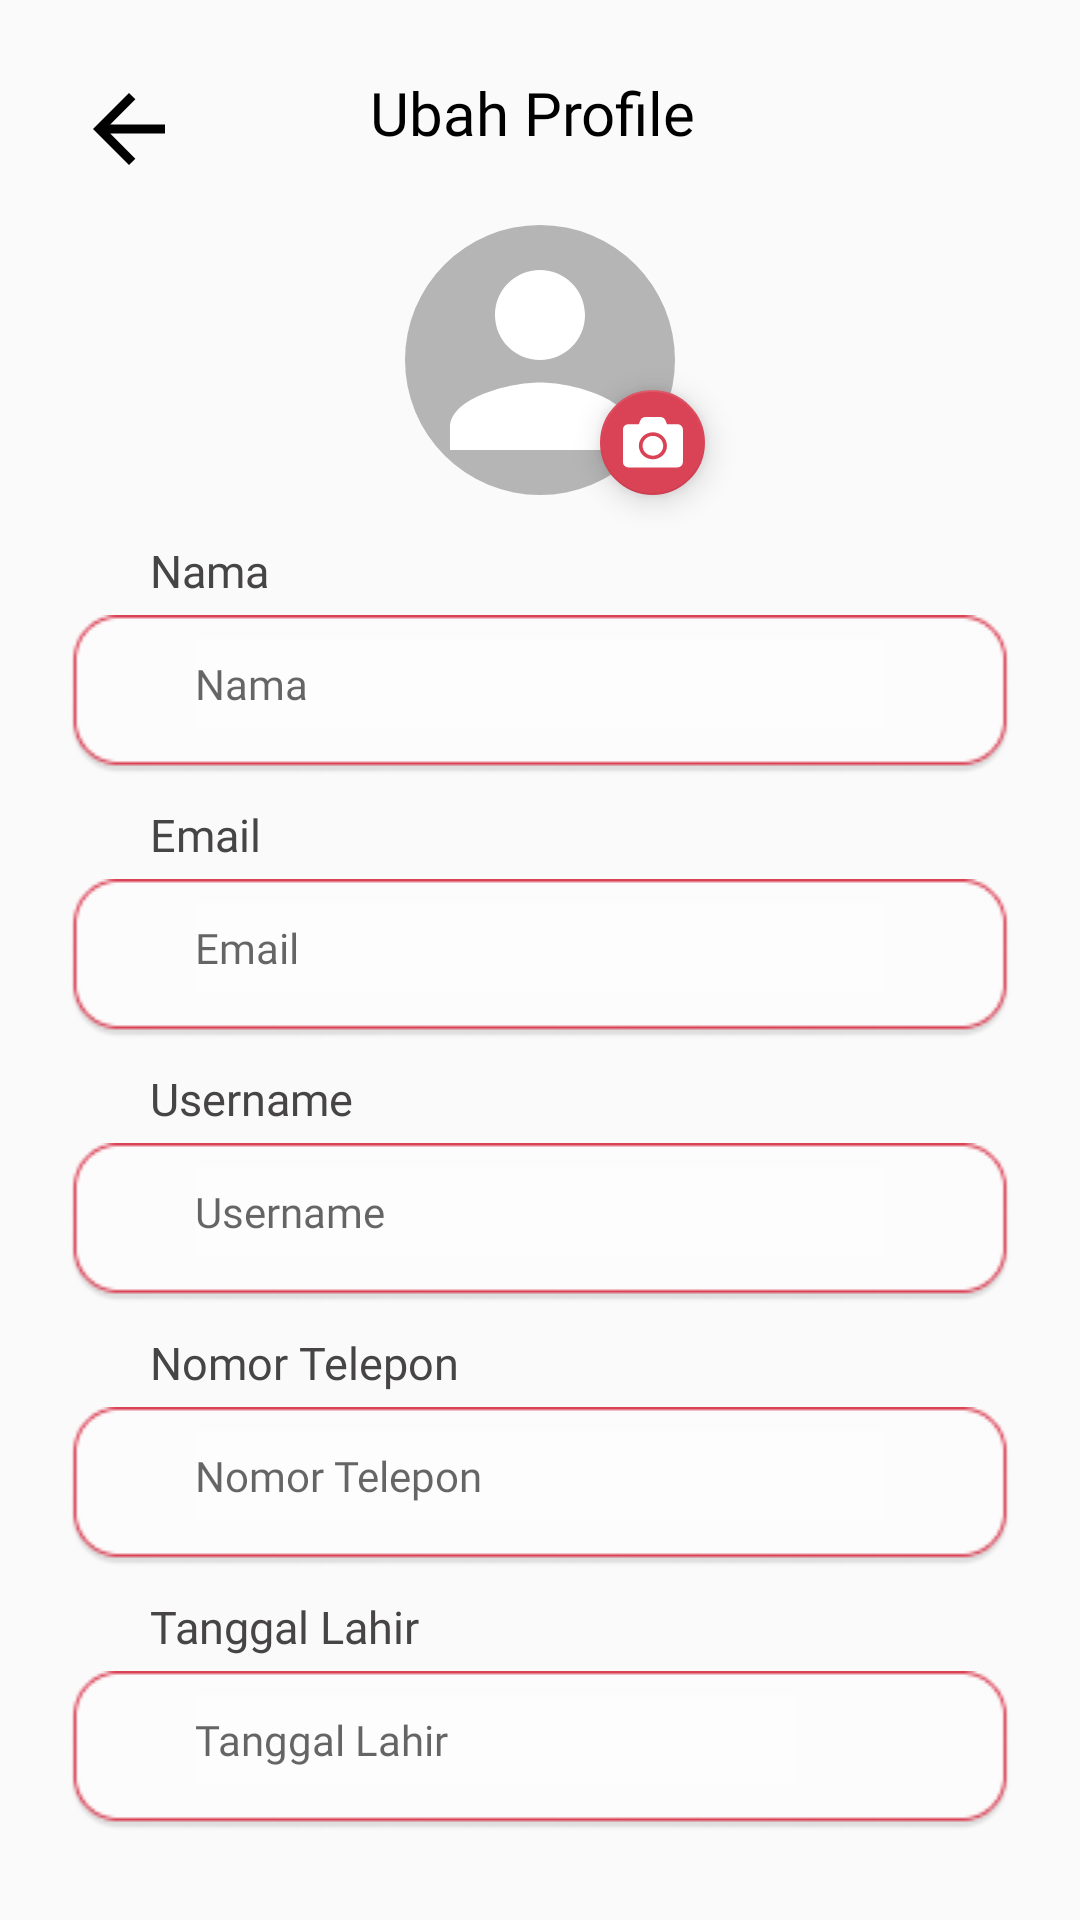

Icons on this 1080*1920 Android screen, each with its box as (x1, y1, x2, y2):
back: (93, 93, 165, 165)
